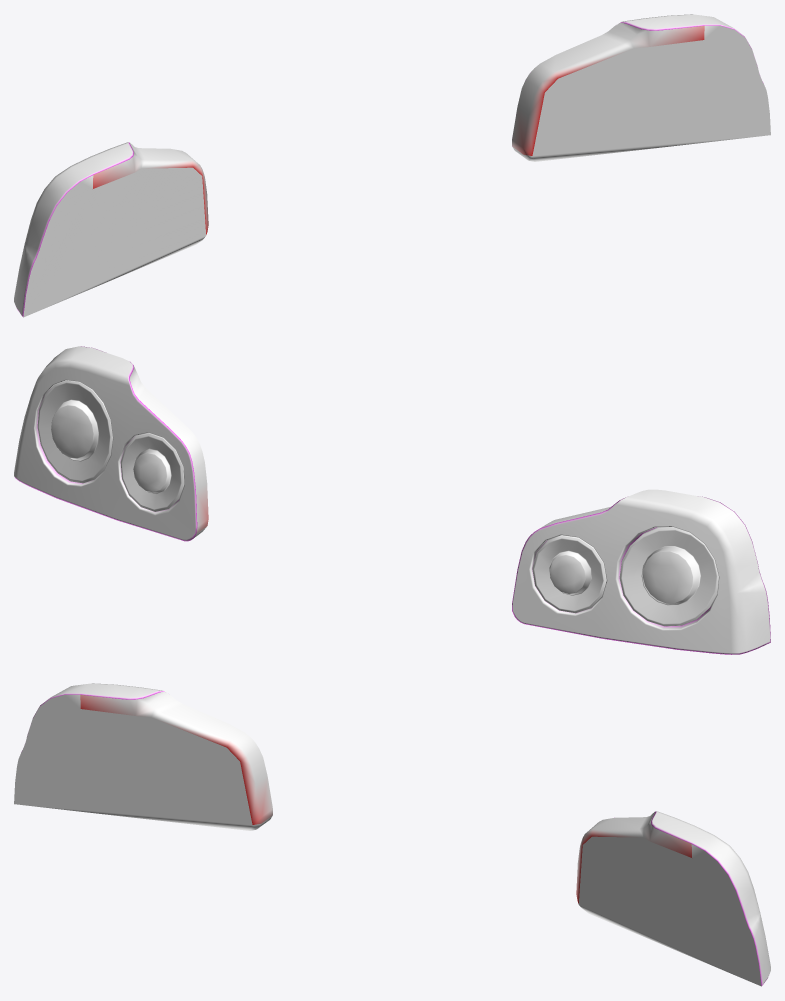
The model's file is Car_Nissan_SkylineGTRVspecR34_1999_TailLights_SetA.fbx.
The picture shows the model from 3 angles, top to bottom: view 1: azimuth 30°, elevation 25°; view 2: azimuth 150°, elevation 25°; view 3: azimuth 330°, elevation 25°; orthographic projection.
Visible parts, largest first — view 1: TailLightL 6, TailLightR 6; view 2: TailLightR 6, TailLightL 6; view 3: TailLightR 6, TailLightL 6.
Part boxes in pixels (left/top/right/bottom): TailLightL 6: left=512, top=14, right=770, bottom=161; TailLightR 6: left=14, top=142, right=208, bottom=317; TailLightR 6: left=512, top=489, right=770, bottom=654; TailLightL 6: left=14, top=346, right=208, bottom=541; TailLightR 6: left=14, top=683, right=272, bottom=830; TailLightL 6: left=576, top=811, right=770, bottom=986.
Bounding box in the file's own units: 1.64 × 0.2733 × 0.1803.
